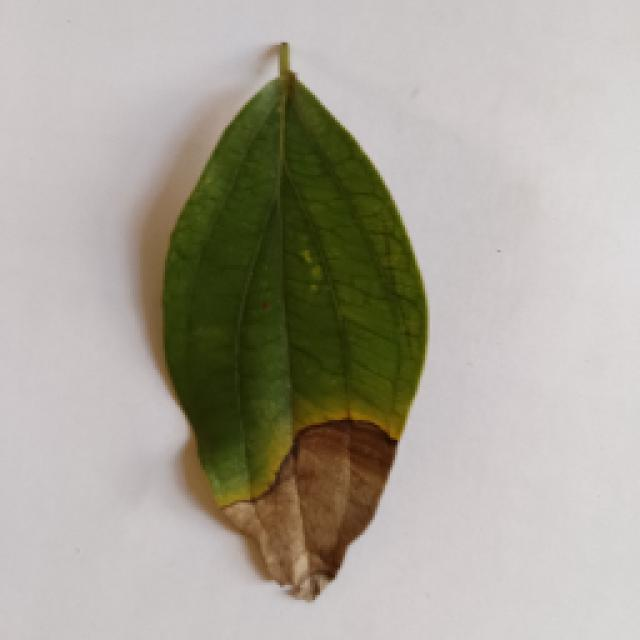footrot: (150, 52, 430, 598)
